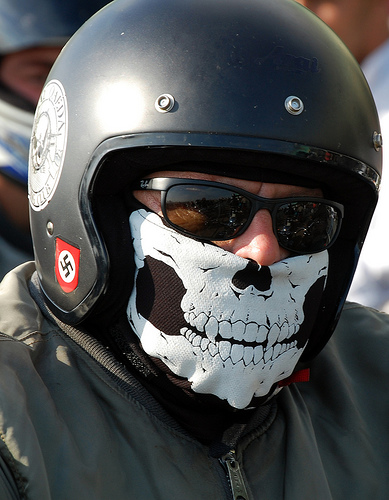helmet: (24, 7, 383, 323)
